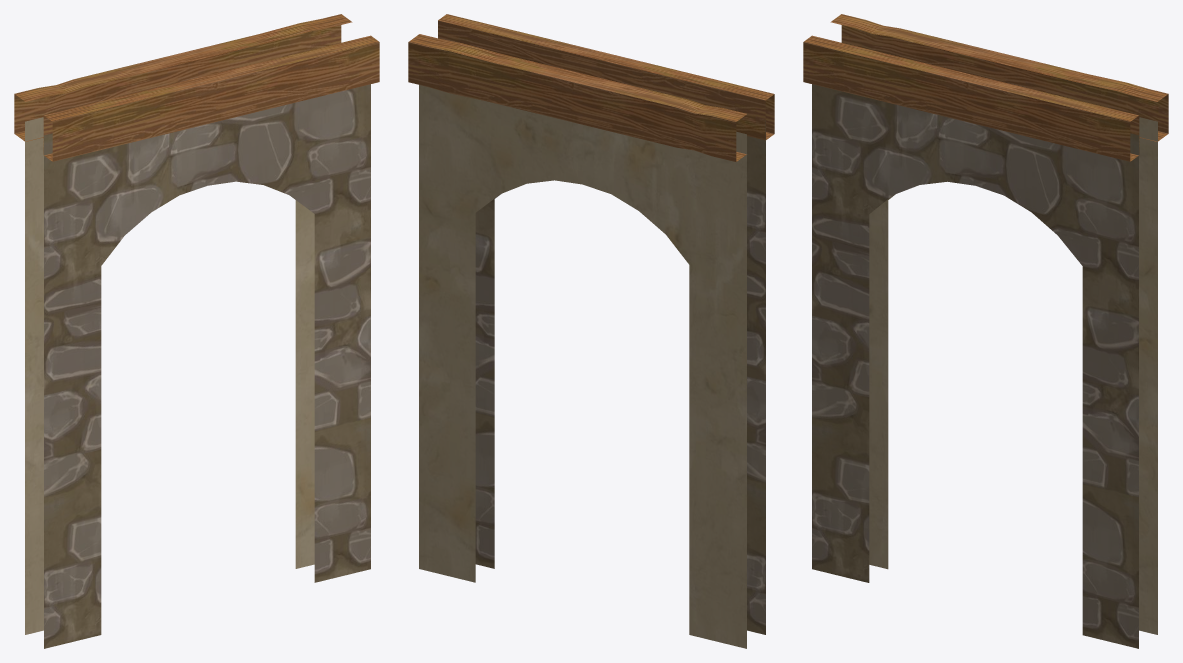
File: Wall_UnevenBrick_Door_Round.gltf
3 views of the same model, side by side, from view 1: azimuth 30°, elevation 25°; view 2: azimuth 150°, elevation 25°; view 3: azimuth 330°, elevation 25° (orthographic).
Visible parts, largest first — view 1: Wall_UnevenBrick_Door_Round; view 2: Wall_UnevenBrick_Door_Round; view 3: Wall_UnevenBrick_Door_Round.
Part boxes in pixels (x1=…): Wall_UnevenBrick_Door_Round: x1=14, y1=14, x2=379, y2=648; Wall_UnevenBrick_Door_Round: x1=408, y1=14, x2=774, y2=648; Wall_UnevenBrick_Door_Round: x1=803, y1=14, x2=1168, y2=648.
Bounding box in the file's own units: 2 × 3.12 × 0.4065.
3 materials, 3 textured.
